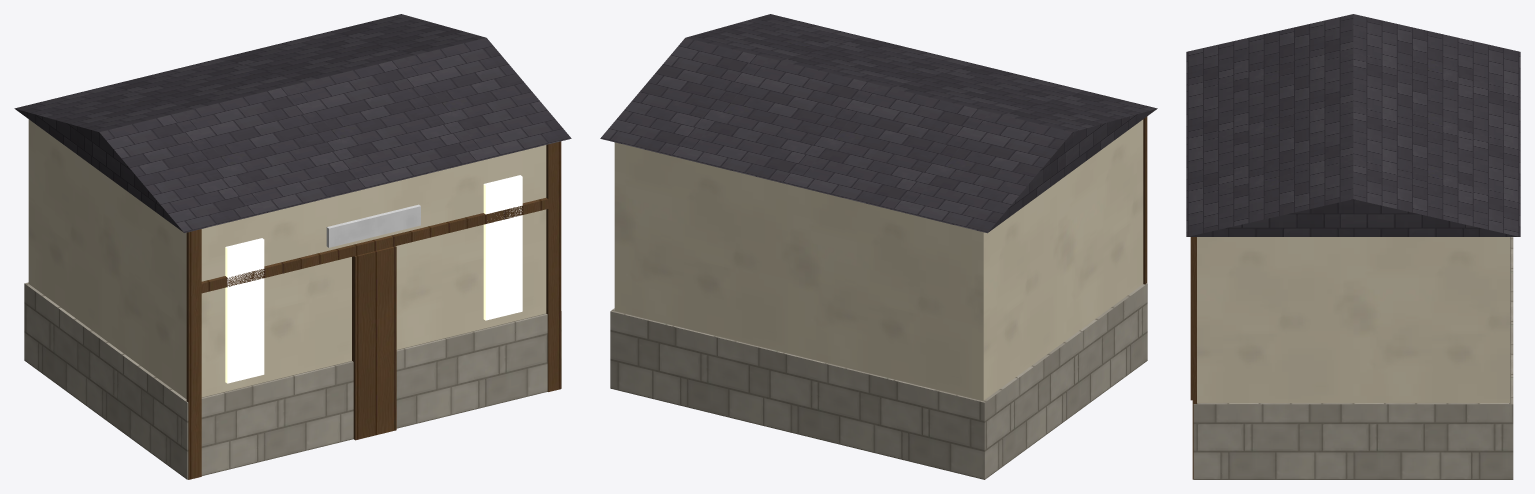
The model's file is wing.nft.glb.
3 views of the same model, side by side, from view 1: azimuth 30°, elevation 25°; view 2: azimuth 150°, elevation 25°; view 3: azimuth 270°, elevation 25° (orthographic). The views are drawn at different scales.
Visible parts, largest first — view 1: castle.wing.nft; view 2: castle.wing.nft; view 3: castle.wing.nft.
Part boxes in pixels (x1,y1,x2,y2): castle.wing.nft: [14, 14, 571, 479]; castle.wing.nft: [600, 14, 1157, 479]; castle.wing.nft: [1186, 14, 1520, 479].
Bounding box in the file's own units: 4.2 × 3 × 3.2.
6 materials, 5 textured.
